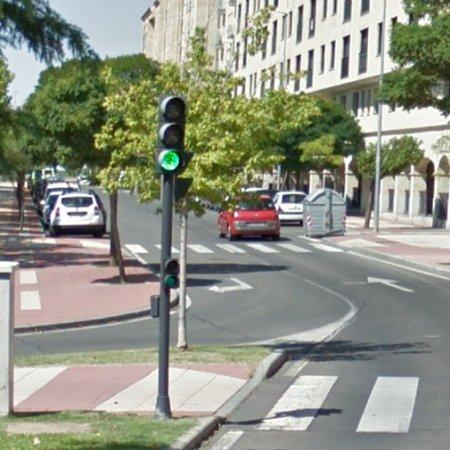crosswalks: (119, 240, 345, 255)
